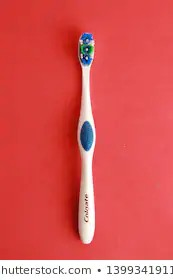toothbrush: (70, 32, 103, 241)
